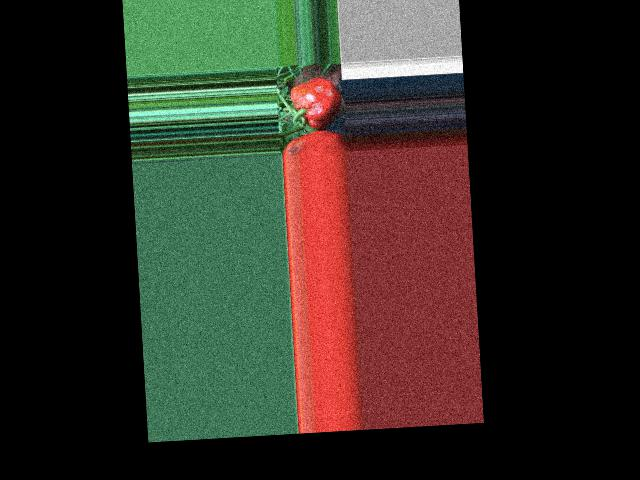bell_pepper: (285, 78, 345, 130)
